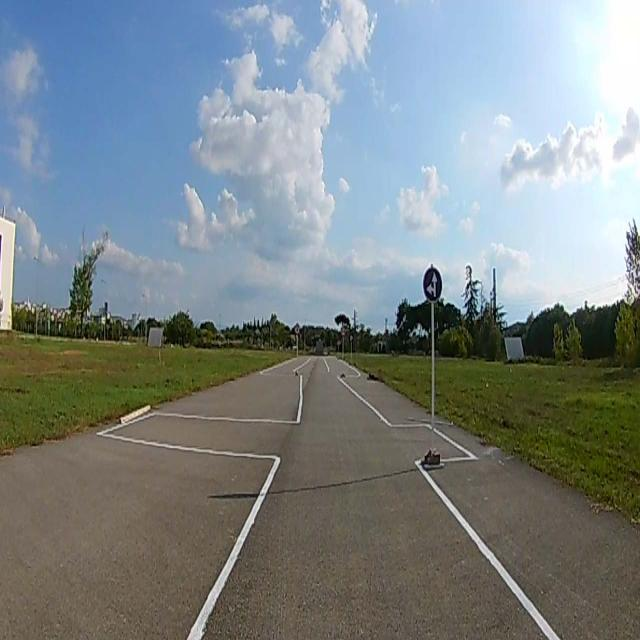ilerisol: (423, 265, 441, 300)
